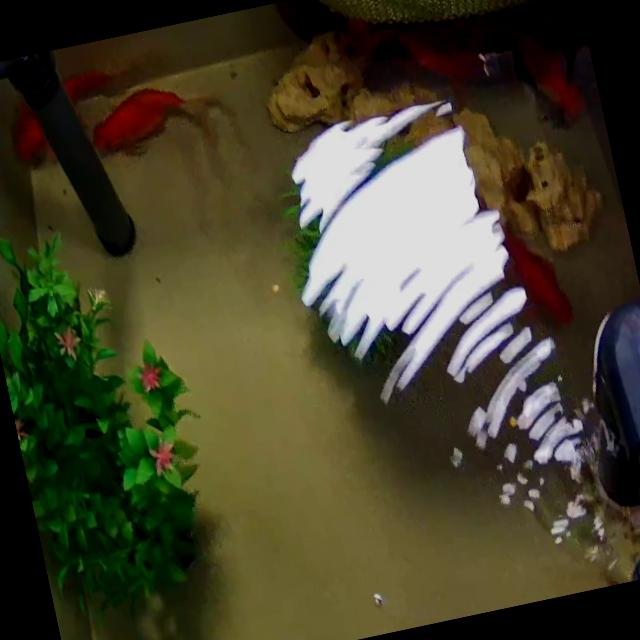fish: (79, 62, 253, 186), (486, 2, 604, 137), (480, 219, 597, 336), (5, 64, 122, 170)
